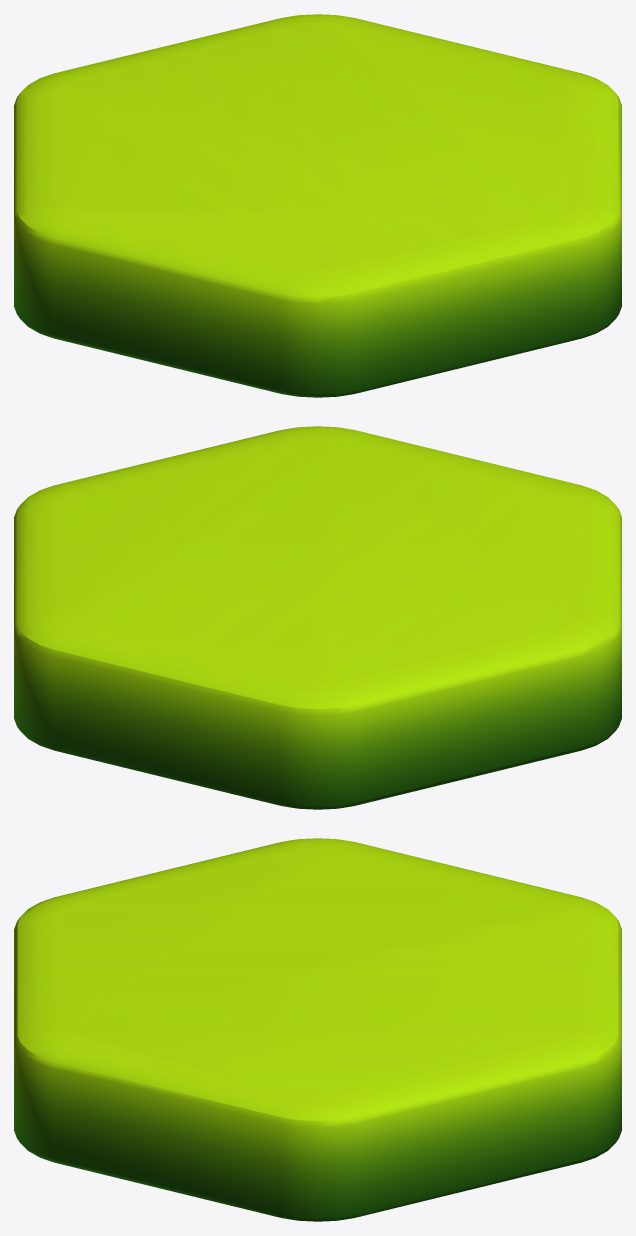
File: hexa box2a (1).fbx
The picture shows the model from 3 angles, top to bottom: view 1: azimuth 30°, elevation 25°; view 2: azimuth 150°, elevation 25°; view 3: azimuth 270°, elevation 25°; orthographic projection.
Parts seen in each view (by area): view 1: Cylinder.050; view 2: Cylinder.050; view 3: Cylinder.050.
Boxes of the visible parts, bbox=[...] form: Cylinder.050: bbox=[14, 14, 621, 397]; Cylinder.050: bbox=[14, 426, 621, 809]; Cylinder.050: bbox=[14, 838, 621, 1221].
Bounding box in the file's own units: 207 × 38.55 × 186.
Materials: 1 (1 with a texture image).
